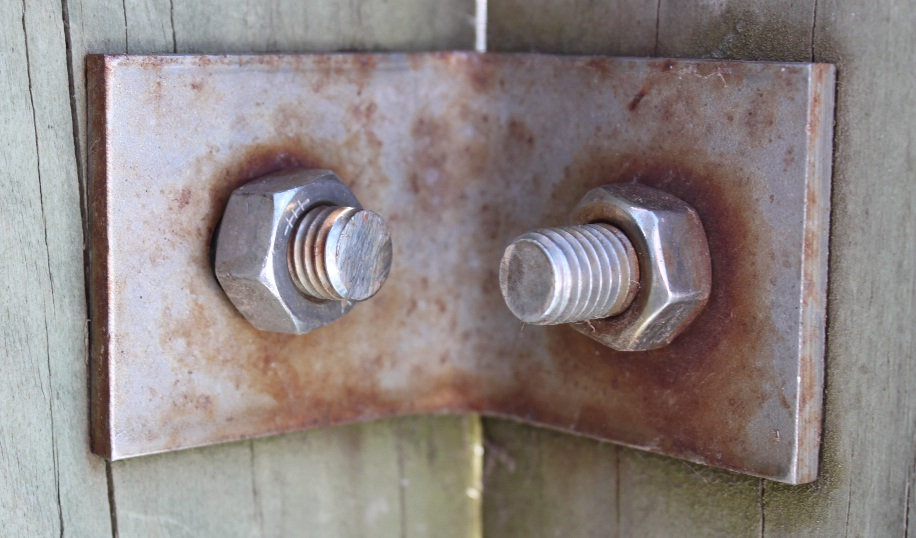rust: (562, 351, 762, 466), (643, 163, 723, 206), (244, 154, 303, 172)
